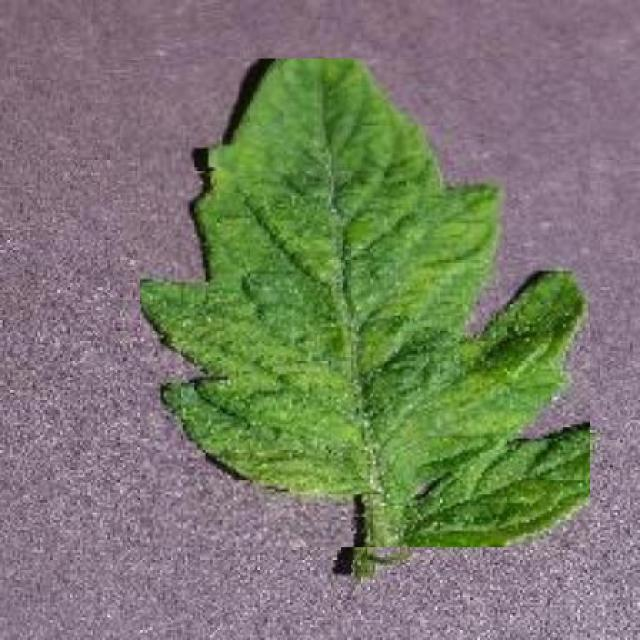Mosaic Virus: (140, 59, 590, 547)
